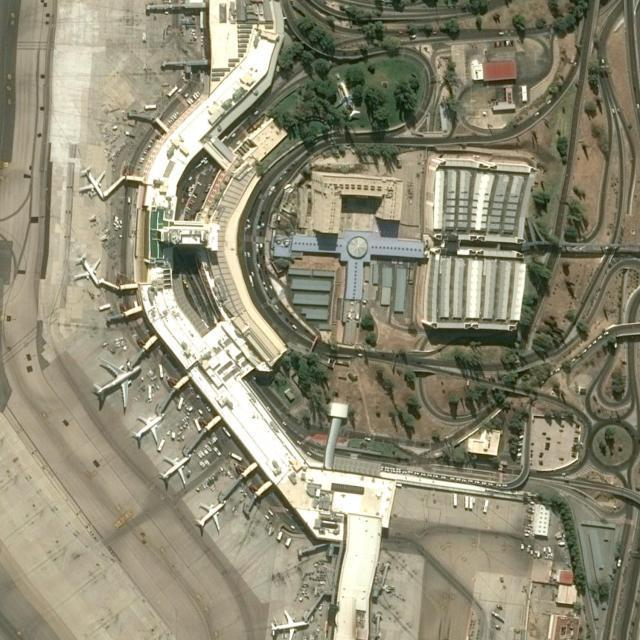Aircraft: (93, 359, 142, 411), (132, 411, 168, 448), (269, 610, 311, 640), (73, 252, 103, 290), (157, 456, 193, 487), (78, 165, 108, 200), (195, 502, 229, 532)
